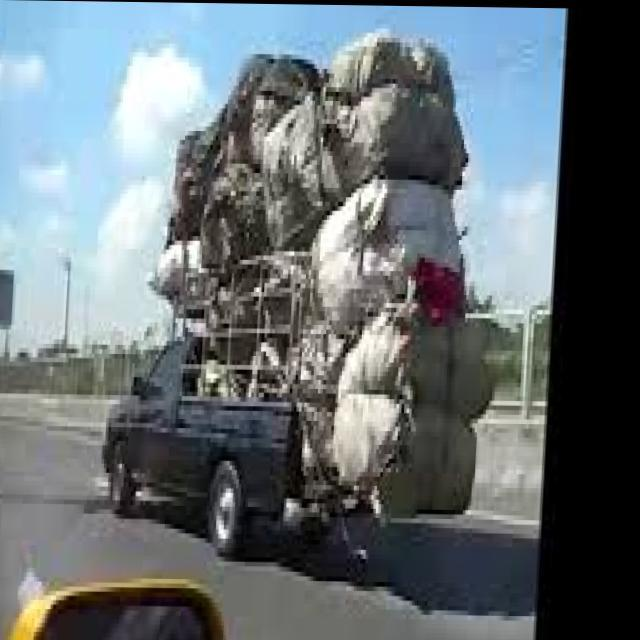uncovered: (106, 23, 508, 547)
